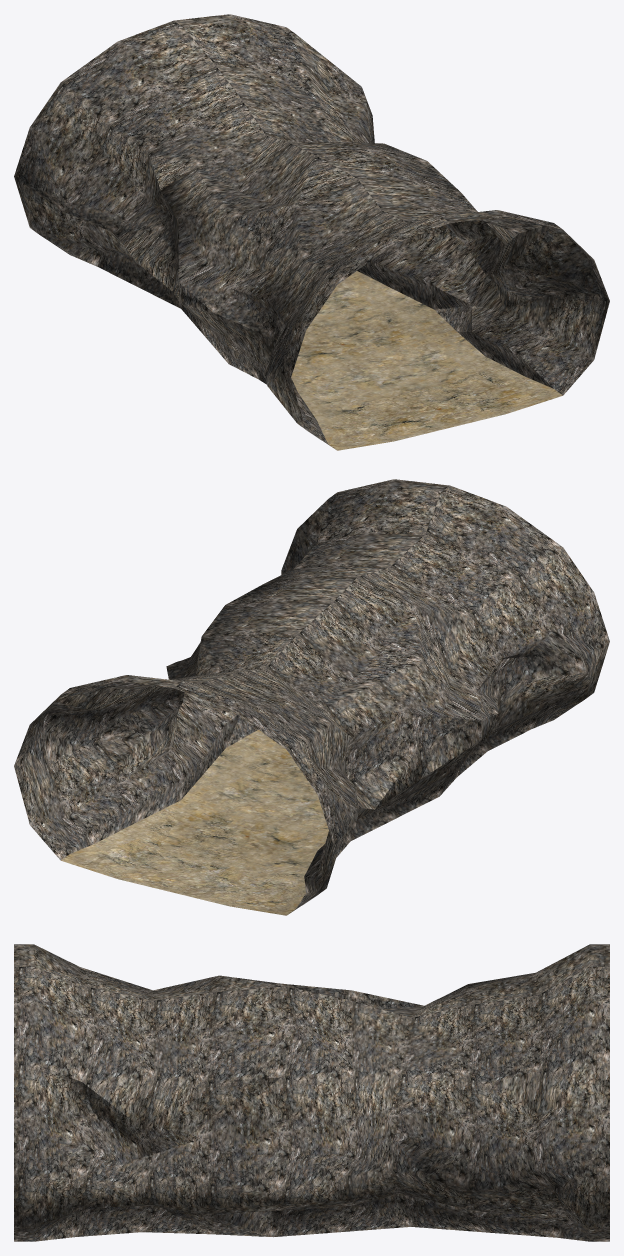
The model's file is pir_m_are_cav_hallWide150.fbx.
3 renders of one model, top to bottom at view 1: azimuth 30°, elevation 25°; view 2: azimuth 150°, elevation 25°; view 3: azimuth 270°, elevation 25°, orthographic. The views are drawn at different scales.
Visible parts, largest first — view 1: hallWide150_wall, hallWide150_floor; view 2: hallWide150_wall, hallWide150_floor; view 3: hallWide150_wall.
Boxes of the visible parts, left/top/right/bottom form: hallWide150_wall: left=14, top=14, right=609, bottom=448; hallWide150_floor: left=291, top=271, right=562, bottom=450; hallWide150_wall: left=14, top=479, right=609, bottom=913; hallWide150_floor: left=61, top=729, right=328, bottom=915; hallWide150_wall: left=14, top=944, right=609, bottom=1241.
Bounding box in the file's own units: 10181 × 6125 × 15000.
2 materials, 2 textured.
